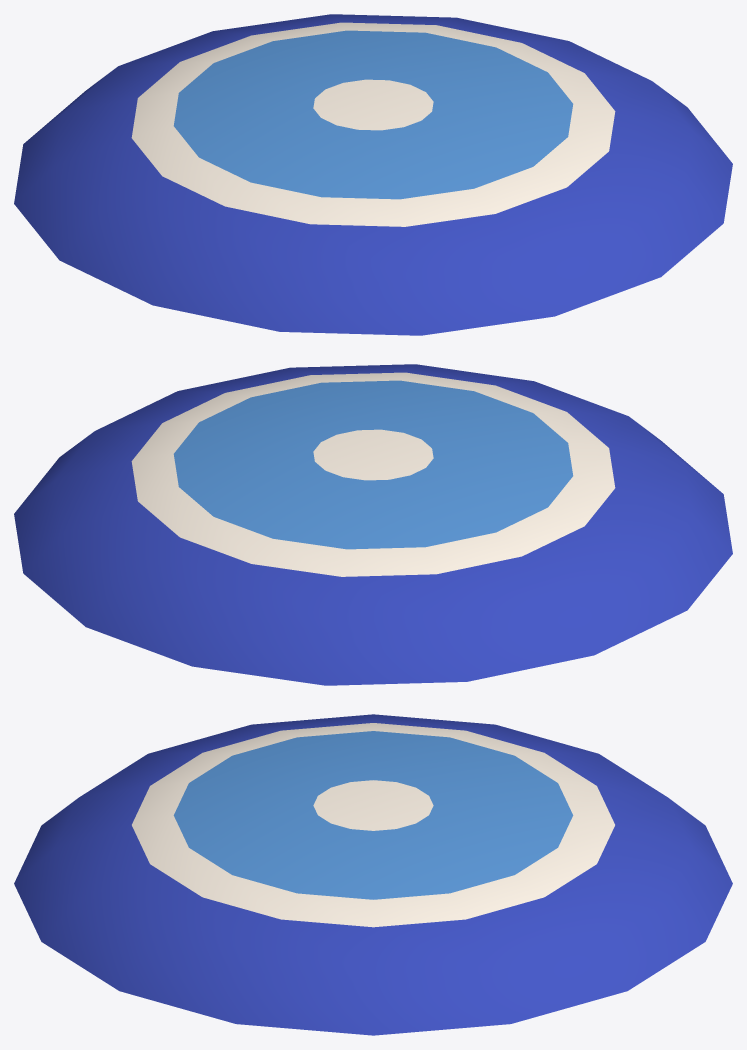
The model's file is Frisbee_01.fbx.
3 views of the same model, one above another, from view 1: azimuth 30°, elevation 25°; view 2: azimuth 150°, elevation 25°; view 3: azimuth 270°, elevation 25° (orthographic).
Parts seen in each view (by area): view 1: Frisbee_01; view 2: Frisbee_01; view 3: Frisbee_01.
Boxes of the visible parts, x1,y1,x2,y2 form: Frisbee_01: (14, 14, 732, 335); Frisbee_01: (14, 364, 732, 685); Frisbee_01: (14, 714, 732, 1035).
Bounding box in the file's own units: 0.3495 × 0.0419 × 0.3495.
